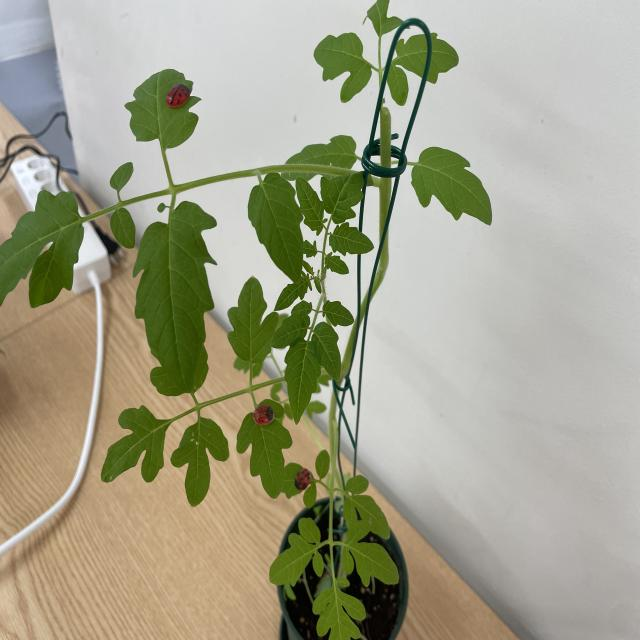bug: (249, 389, 278, 435), (290, 458, 316, 504), (162, 78, 190, 116)
